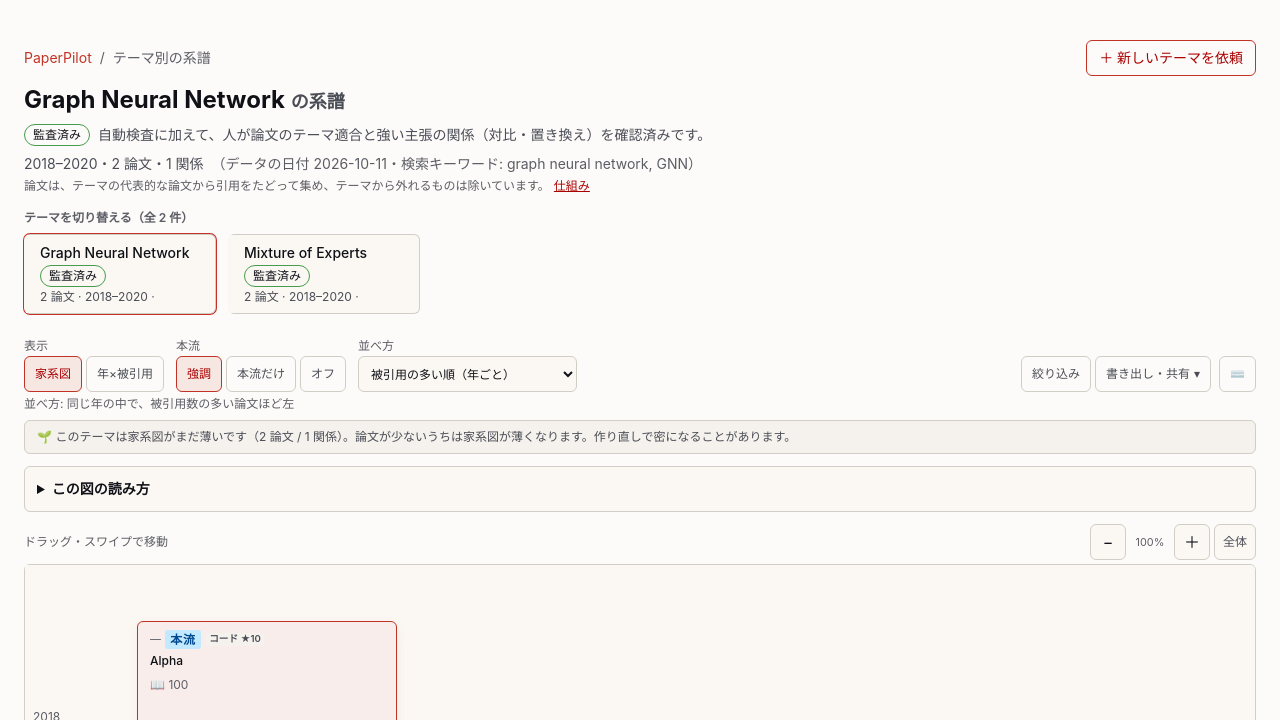
ThemesClient page shell › the request button toggles the about panel (aria-expanded)
The image size is (1280, 720).
expect the heading "Graph Neural Network の系譜" is shown: met, box [24,84,560,114]
Step 1. Click the button "＋ 新しいテーマを依頼" → (1171, 58), box [1086,40,1256,76]
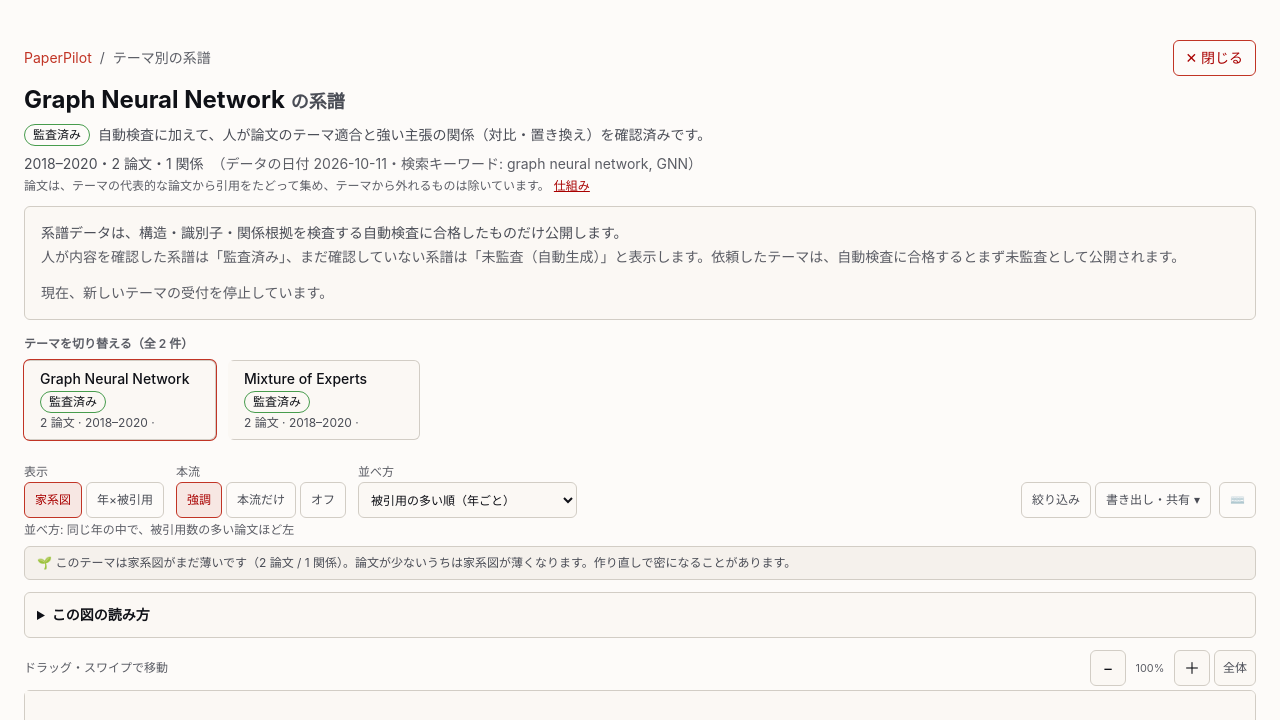
expect the button named "新しいテーマを依頼" is expanded: met, box [1172,40,1256,76]
expect the element with id "hero-details" is shown: met, box [24,206,1256,320]
